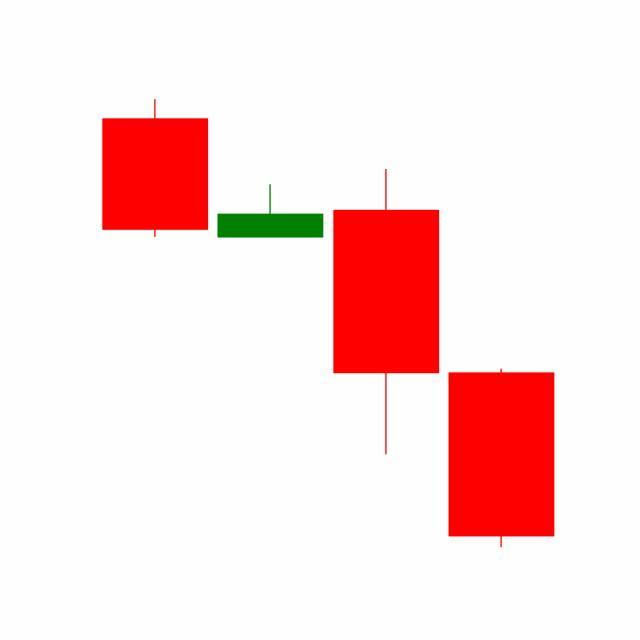Three Outside Up-Down: (211, 165, 555, 549)
